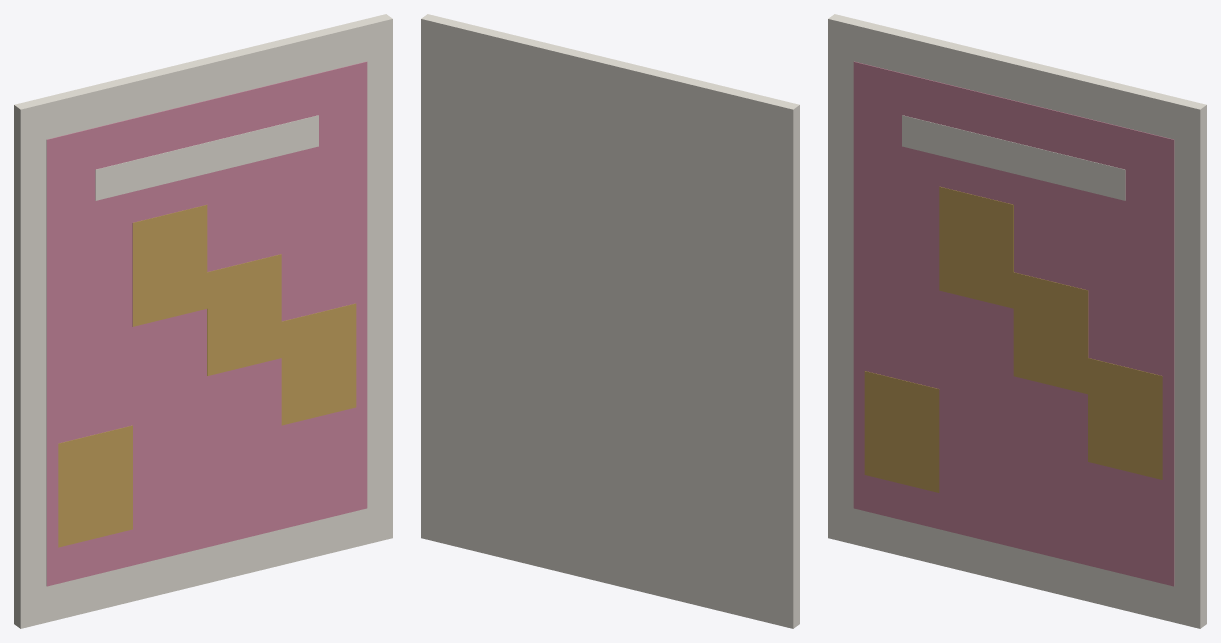
The model's file is poster-small.glb.
3 views of the same model, side by side, from view 1: azimuth 30°, elevation 25°; view 2: azimuth 150°, elevation 25°; view 3: azimuth 330°, elevation 25° (orthographic).
Visible parts, largest first — view 1: poster-small; view 2: poster-small; view 3: poster-small.
Boxes of the visible parts, x1=… form: poster-small: x1=14, y1=14, x2=392, y2=628; poster-small: x1=421, y1=14, x2=799, y2=628; poster-small: x1=828, y1=14, x2=1206, y2=628.
Size of the model in its own units: 30 by 40 by 1.
